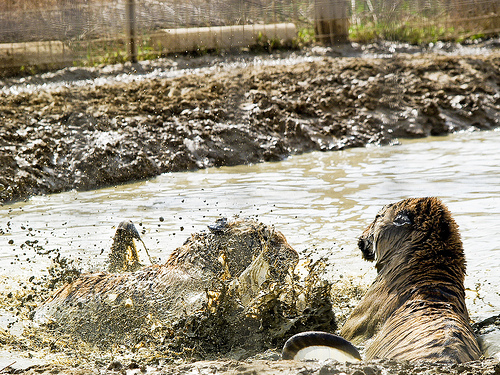Tigre: (352, 199, 473, 365)
